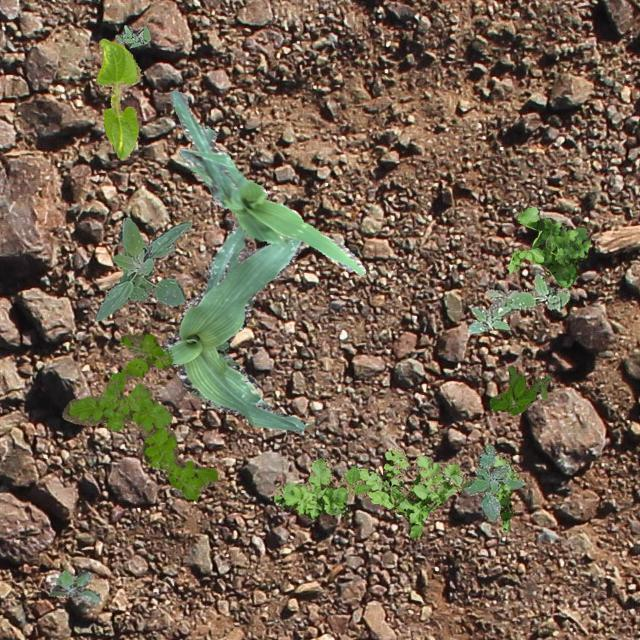crop: (168, 88, 364, 274), (160, 220, 308, 430), (96, 38, 142, 158)
weed: (60, 332, 216, 500), (273, 446, 519, 538), (94, 217, 190, 321), (508, 205, 590, 288), (466, 272, 568, 332), (464, 444, 524, 520), (488, 364, 550, 414), (48, 568, 98, 602), (114, 24, 150, 46)
